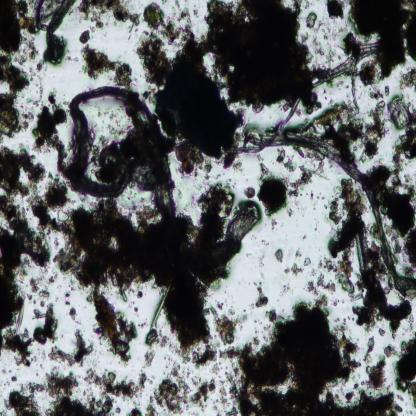Background material: (48, 185, 245, 351), (240, 301, 402, 414), (326, 180, 415, 336), (206, 0, 320, 110), (0, 195, 47, 331), (347, 0, 416, 81), (366, 162, 416, 271), (89, 286, 136, 364), (323, 101, 389, 156), (44, 370, 114, 416), (32, 91, 67, 163), (28, 177, 70, 234), (81, 43, 134, 88), (0, 146, 45, 195), (84, 367, 148, 398), (256, 160, 290, 217), (0, 0, 36, 52), (44, 329, 92, 366), (77, 0, 140, 26), (142, 3, 180, 44), (385, 126, 416, 176), (152, 376, 191, 414), (397, 330, 416, 408), (0, 327, 36, 368), (276, 146, 325, 175), (0, 52, 31, 93), (7, 382, 45, 415), (218, 360, 240, 416), (32, 302, 57, 344), (387, 94, 416, 130), (0, 92, 20, 138), (211, 311, 238, 345), (142, 329, 168, 363), (191, 376, 216, 410), (289, 169, 318, 198), (310, 35, 334, 69), (365, 357, 388, 392), (187, 341, 217, 367), (28, 273, 51, 302), (178, 7, 196, 42), (304, 274, 336, 292), (397, 66, 416, 90), (18, 38, 37, 62), (252, 285, 268, 309), (18, 110, 34, 130), (383, 343, 400, 360), (362, 336, 376, 356), (369, 86, 389, 100), (305, 10, 318, 31), (78, 28, 92, 44), (168, 363, 182, 377), (265, 308, 277, 324), (282, 266, 303, 275), (144, 403, 158, 416), (274, 246, 284, 264), (243, 186, 256, 198), (128, 404, 142, 415), (65, 288, 73, 307), (68, 308, 77, 322), (292, 248, 302, 260), (270, 218, 278, 232), (303, 255, 312, 267), (36, 59, 44, 71), (10, 374, 18, 383)
Cellulose filter fibre: (245, 132, 416, 291), (62, 85, 172, 200), (278, 40, 378, 132), (43, 0, 73, 56), (228, 200, 259, 244)
Fragment: (160, 36, 240, 158)
